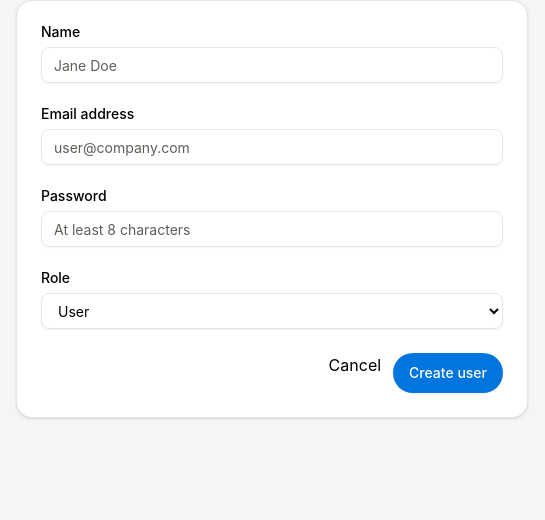
Test case: CreateUserForm › validations › shows field format and length errors
This screenshot has width=545, height=520.
Type "A" into the field labelled "Name" at (272, 65), box [41,47,503,83]
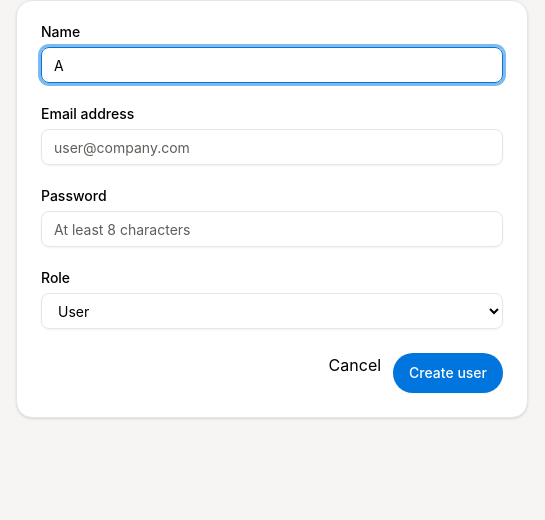
Type "invalid-email" into the field labelled "Email address" at (272, 147), box [41,129,503,165]
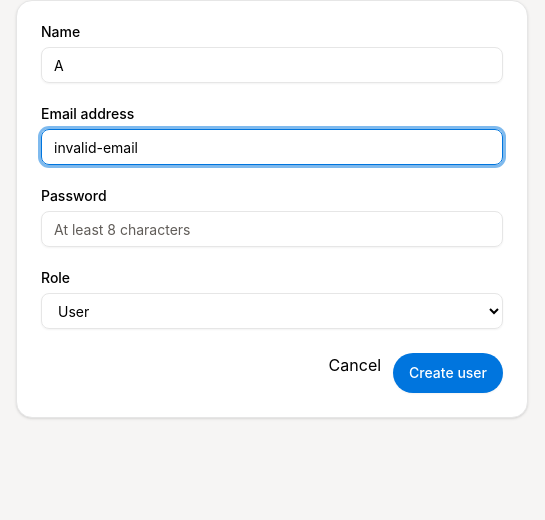
Type "short" into the password field labelled "Password" at (272, 229), box [41,211,503,247]
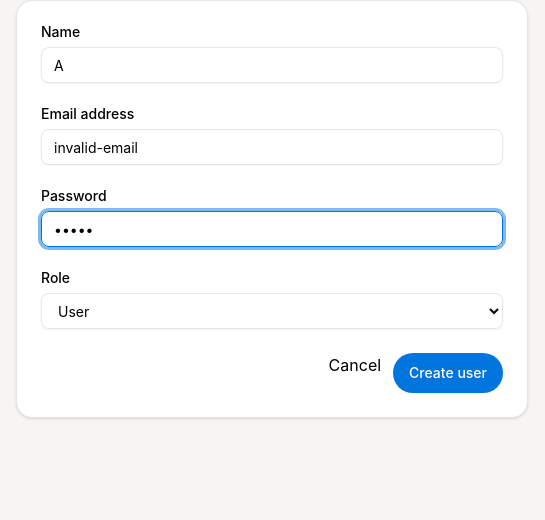
Click the button "Create user" at (448, 373), box [393,353,503,393]
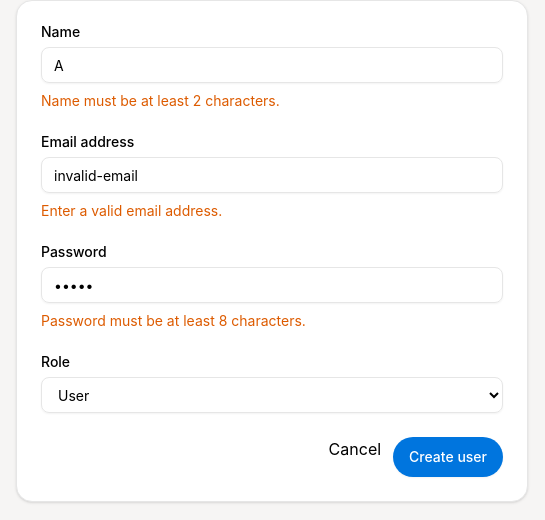
Now the text "Name must be at least 2 characters." is shown, box [41,92,280,109]
Now the text "Enter a valid email address." is shown, box [41,202,222,219]
Now the text "Password must be at least 8 characters." is shown, box [41,312,306,329]
